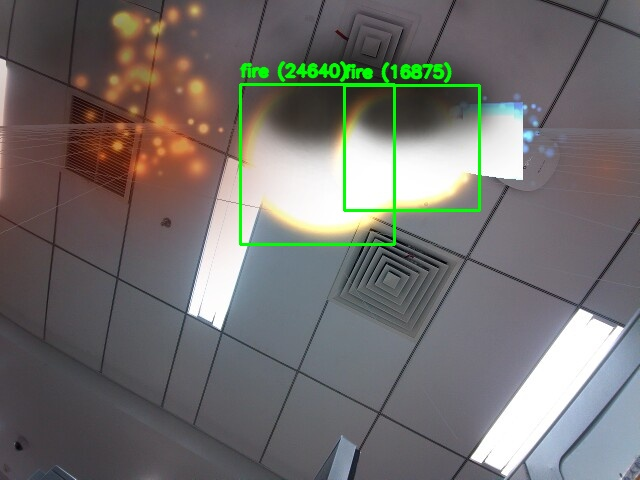fire: (240, 84, 394, 244), (344, 85, 479, 210)
